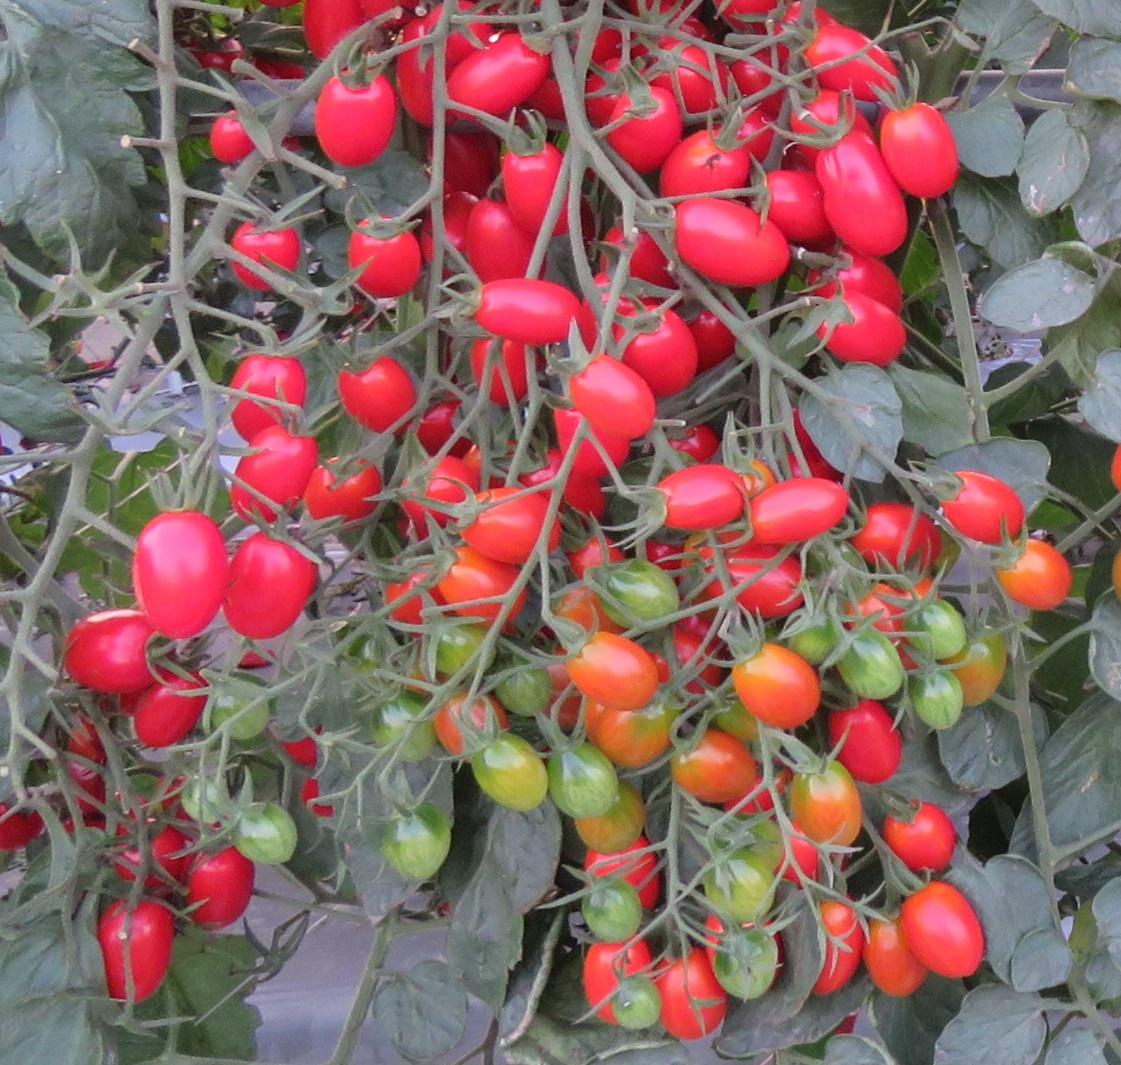green: (600, 563, 687, 632), (466, 742, 550, 813), (550, 743, 622, 819), (838, 634, 906, 704), (372, 690, 435, 765), (381, 813, 452, 879), (719, 923, 779, 1001), (704, 859, 779, 921), (222, 810, 301, 864), (577, 887, 648, 941), (426, 623, 498, 675), (908, 601, 967, 661), (496, 657, 551, 720), (911, 671, 964, 733), (212, 685, 269, 741), (790, 608, 836, 666), (181, 778, 226, 826), (606, 992, 656, 1028)
orange: (732, 645, 826, 728), (457, 489, 561, 561), (561, 632, 659, 706), (438, 545, 527, 623), (793, 772, 870, 852), (673, 737, 763, 802), (1001, 544, 1076, 611), (864, 916, 924, 999), (438, 689, 508, 757), (598, 706, 668, 772)
red: (134, 511, 227, 639), (220, 530, 315, 641), (666, 206, 793, 286), (446, 35, 556, 117), (227, 424, 318, 519), (96, 899, 176, 1004), (898, 887, 985, 981), (63, 608, 153, 694), (319, 68, 397, 167), (881, 107, 963, 198), (618, 304, 700, 395), (474, 277, 582, 342), (573, 353, 655, 437), (803, 27, 898, 99), (749, 481, 848, 550), (229, 352, 306, 439), (465, 200, 546, 282), (826, 183, 911, 259), (849, 500, 940, 571), (655, 462, 749, 529), (500, 148, 575, 233), (337, 355, 416, 433), (609, 86, 685, 167), (941, 468, 1023, 541), (663, 951, 728, 1040), (831, 706, 903, 786), (307, 455, 385, 528), (820, 299, 906, 365), (351, 216, 419, 297), (186, 849, 249, 935), (402, 454, 481, 521), (134, 672, 203, 748), (230, 219, 300, 289), (469, 338, 536, 409), (889, 810, 957, 879), (817, 261, 910, 310), (398, 21, 438, 124), (302, 1, 365, 64), (416, 402, 480, 462), (209, 109, 251, 163), (667, 423, 721, 461)
